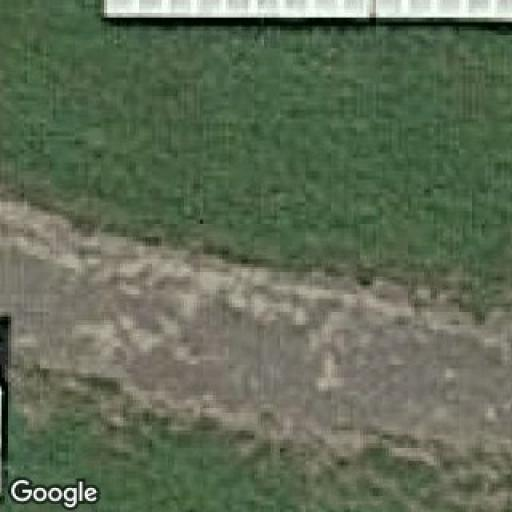solar-panel: (101, 0, 512, 24)
